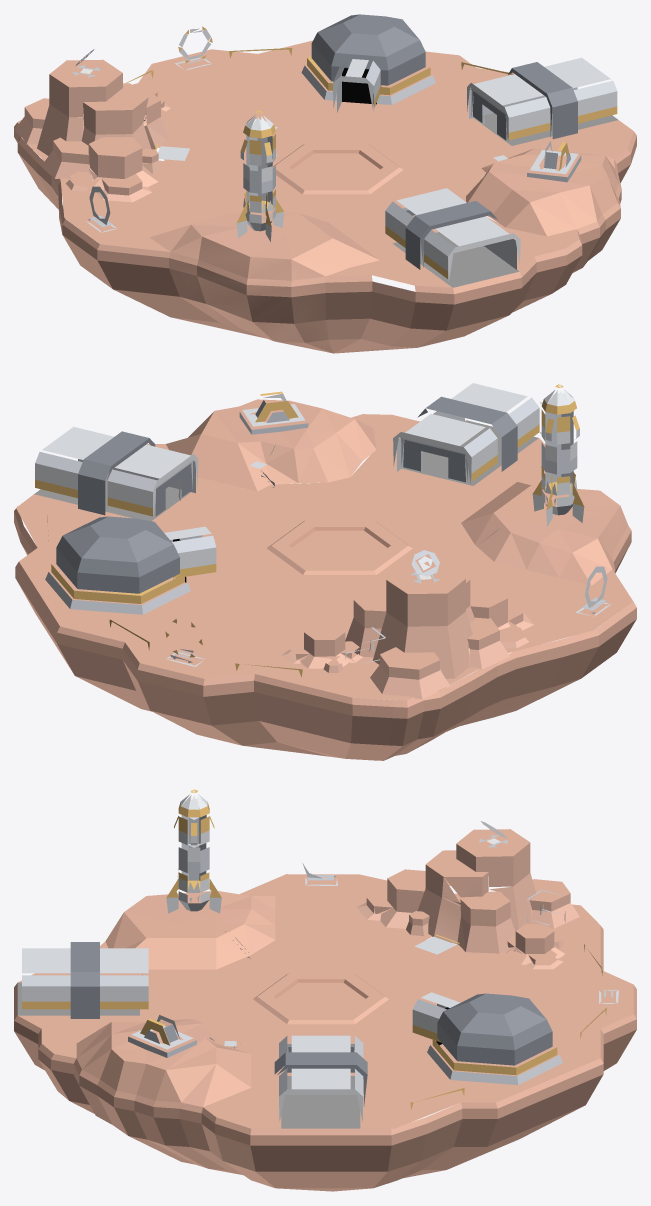
Rendered from new_island_low_poly1.gltf.
3 views of the same model, one above another, from view 1: azimuth 30°, elevation 25°; view 2: azimuth 150°, elevation 25°; view 3: azimuth 270°, elevation 25° (orthographic). The views are drawn at different scales.
Visible parts, largest first — view 1: terrain.001; view 2: terrain.001; view 3: terrain.001.
Boxes of the visible parts, <box> form: terrain.001: <box>14,14,636,353</box>; terrain.001: <box>14,383,636,760</box>; terrain.001: <box>14,789,636,1191</box>.
Size of the model in its own units: 14.41 by 8.61 by 14.74.
